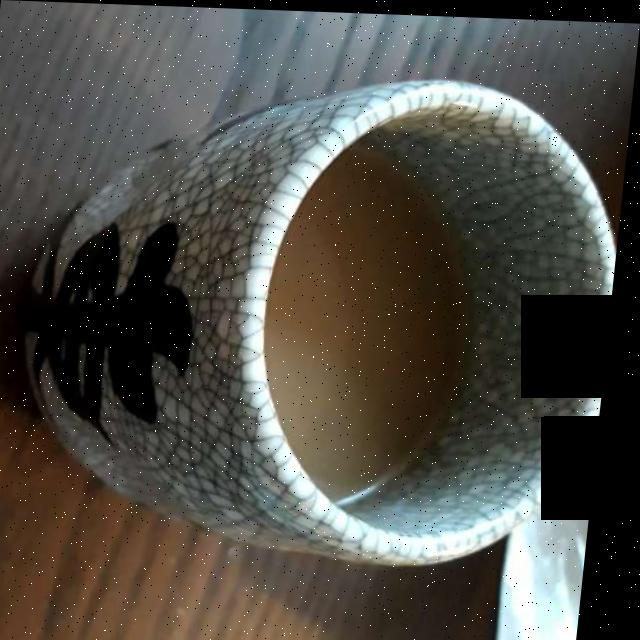white-coffee-with-caffeine: (269, 140, 474, 500)
